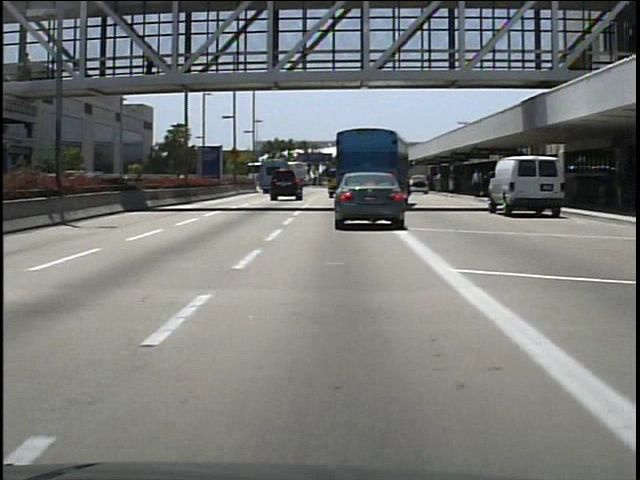person: (606, 167, 628, 212), (142, 42, 162, 87), (21, 50, 39, 83), (471, 165, 485, 199)
